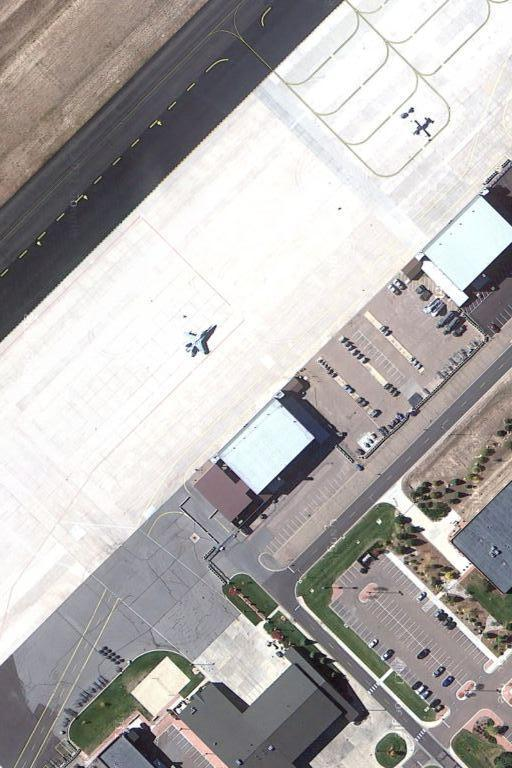F-15: (182, 319, 219, 360)
